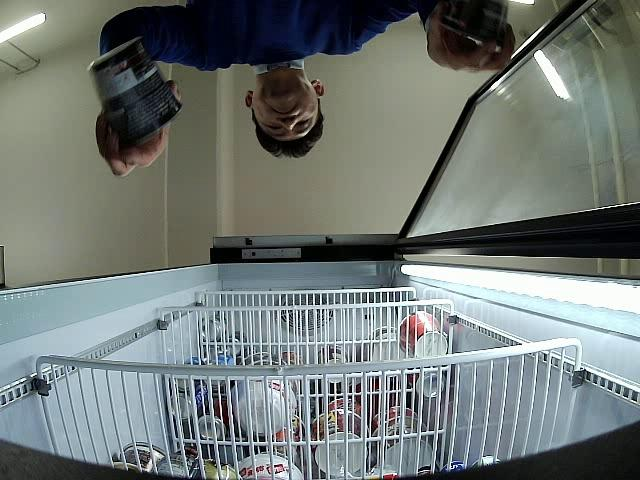00_hand: (95, 80, 182, 178), (427, 0, 516, 71)
08_buldak_S: (87, 39, 180, 145), (441, 0, 507, 46)
